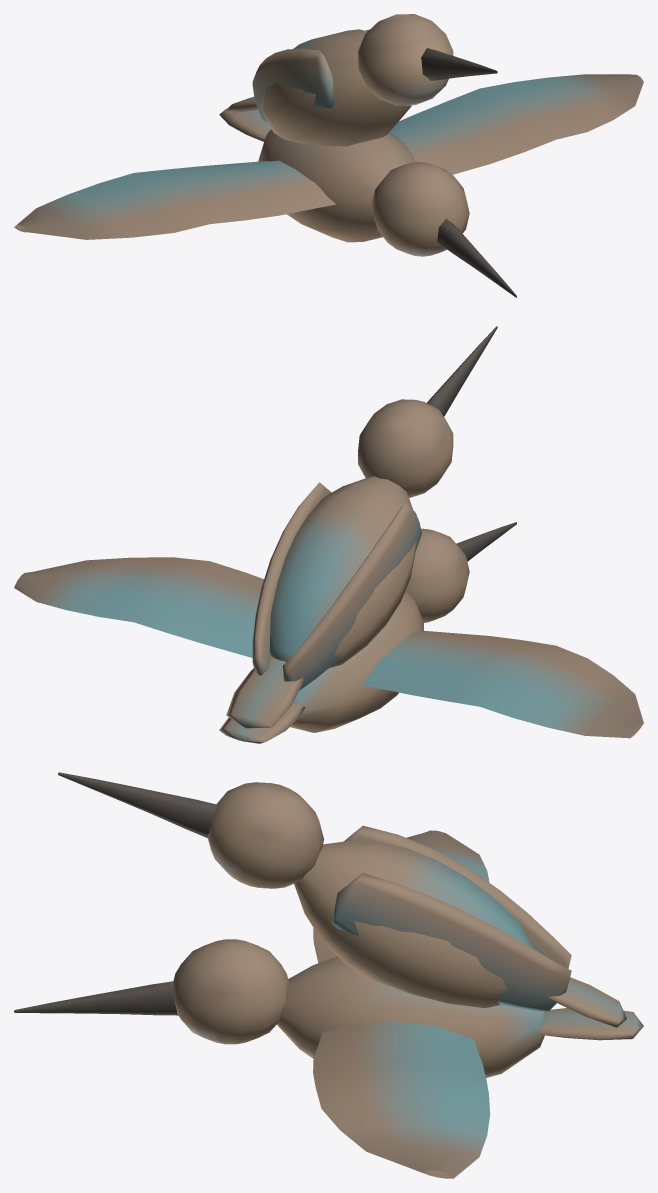
The model's file is kingfisher.glb.
3 views of the same model, one above another, from view 1: azimuth 30°, elevation 25°; view 2: azimuth 150°, elevation 25°; view 3: azimuth 270°, elevation 25° (orthographic). The views are drawn at different scales.
Visible parts, largest first — view 1: kingfisher_flying, kingfisher_perched; view 2: kingfisher_flying, kingfisher_perched; view 3: kingfisher_flying, kingfisher_perched.
Boxes of the visible parts, <box> form: kingfisher_flying: <box>14,74,643,297</box>; kingfisher_perched: <box>226,14,497,146</box>; kingfisher_flying: <box>14,522,643,743</box>; kingfisher_perched: <box>226,326,497,728</box>; kingfisher_flying: <box>14,830,643,1178</box>; kingfisher_perched: <box>58,772,626,1027</box>.
Size of the model in its own units: 0.26 by 0.1092 by 0.2037.
